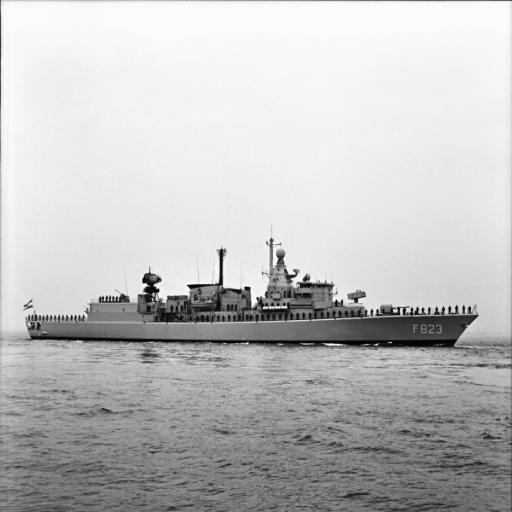Fragata: (18, 224, 484, 353)
